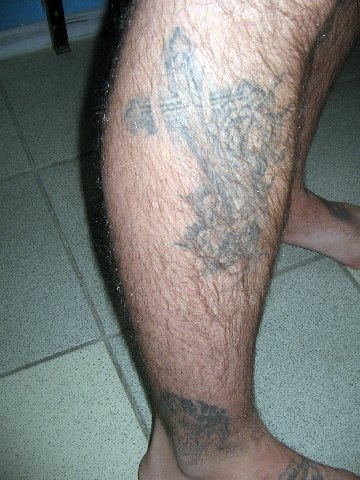tatu9_krest: (129, 46, 274, 224)
